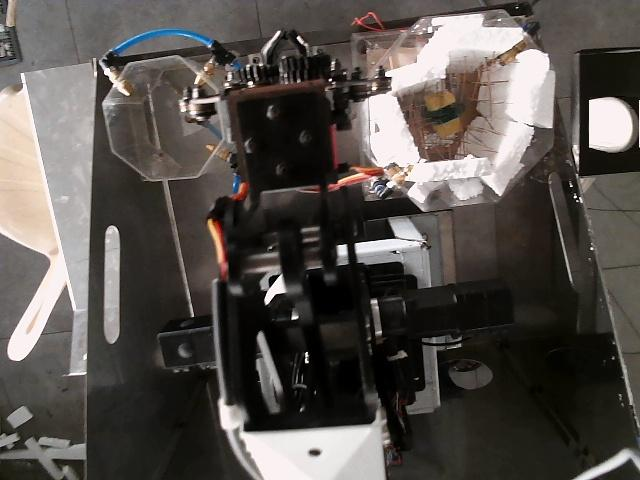cup: (589, 97, 639, 152)
